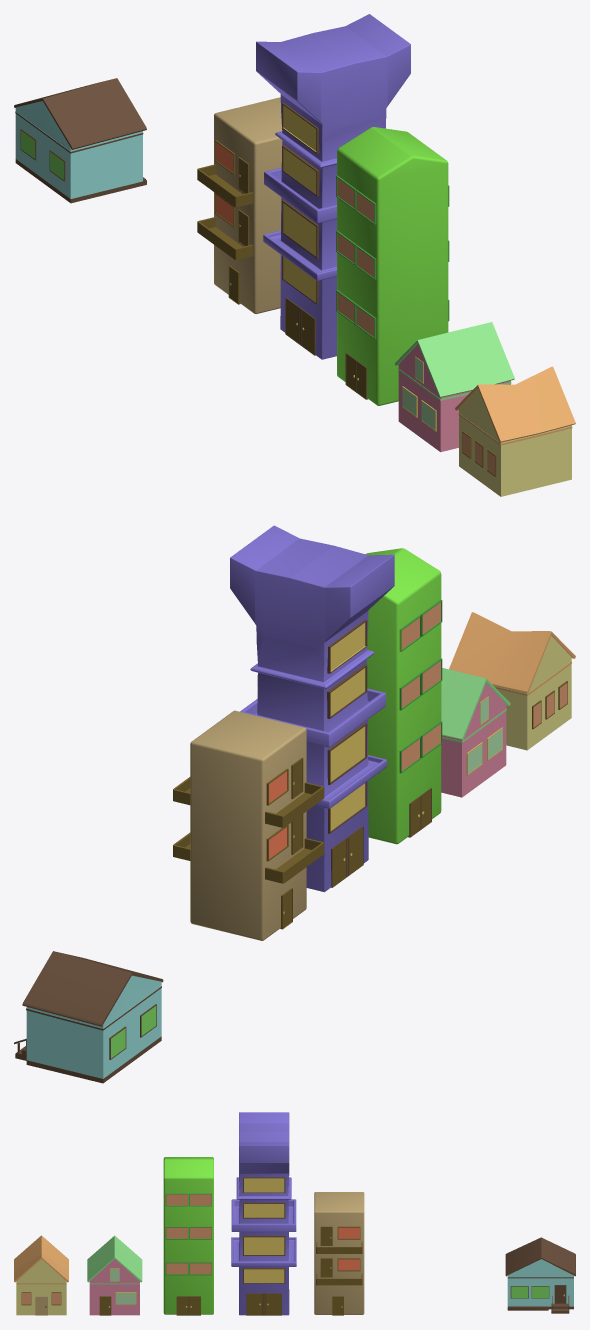
The model's file is Houses.fbx.
The picture shows the model from 3 angles, top to bottom: view 1: azimuth 30°, elevation 25°; view 2: azimuth 150°, elevation 25°; view 3: azimuth 270°, elevation 25°; orthographic projection. The views are drawn at different scales.
Parts seen in each view (by area): view 1: BlurpleBuilding, WatermelonBuilding, TanBuilding, LightBlueHouse, YellowHouse, PinkyHouse; view 2: BlurpleBuilding, TanBuilding, WatermelonBuilding, LightBlueHouse, YellowHouse, PinkyHouse; view 3: BlurpleBuilding, WatermelonBuilding, TanBuilding, LightBlueHouse, PinkyHouse, YellowHouse.
Part boxes in pixels (x1=…): BlurpleBuilding: x1=256, y1=14, x2=410, y2=359; WatermelonBuilding: x1=336, y1=127, x2=449, y2=405; TanBuilding: x1=197, y1=97, x2=282, y2=313; LightBlueHouse: x1=14, y1=78, x2=146, y2=203; YellowHouse: x1=455, y1=366, x2=575, y2=496; PinkyHouse: x1=394, y1=322, x2=514, y2=452; BlurpleBuilding: x1=230, y1=525, x2=394, y2=892; TanBuilding: x1=173, y1=710, x2=324, y2=940; WatermelonBuilding: x1=365, y1=548, x2=442, y2=844; LightBlueHouse: x1=14, y1=951, x2=163, y2=1083; YellowHouse: x1=449, y1=612, x2=575, y2=750; PinkyHouse: x1=441, y1=668, x2=510, y2=797; BlurpleBuilding: x1=231, y1=1112, x2=296, y2=1315; WatermelonBuilding: x1=163, y1=1157, x2=213, y2=1315; TanBuilding: x1=314, y1=1192, x2=364, y2=1315; LightBlueHouse: x1=505, y1=1237, x2=575, y2=1313; PinkyHouse: x1=87, y1=1235, x2=142, y2=1315; YellowHouse: x1=14, y1=1235, x2=68, y2=1315.
Bounding box in the file's own units: 1636 × 3886 × 11189.
